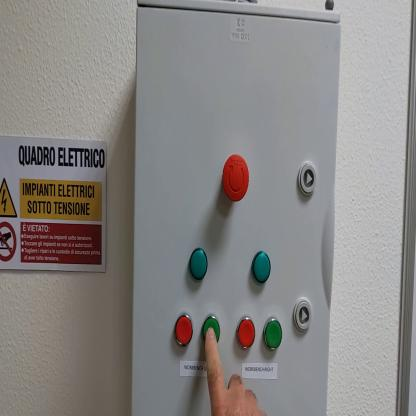hand: (204, 326, 262, 413)
left green button: (203, 317, 222, 344)
left red button: (176, 316, 194, 345)
right green button: (266, 319, 284, 350)
right red button: (238, 317, 257, 352)
